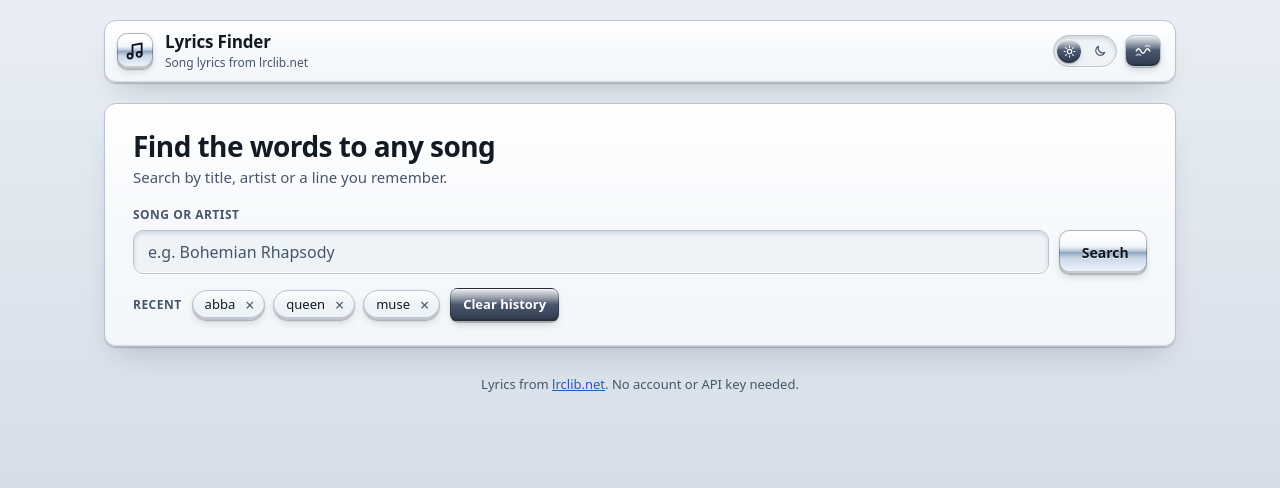
Test: recent searches › removes one entry and clears all
Step 1. Click the button named "Remove “queen” from recent searches" → (342, 305), box [329, 291, 354, 319]
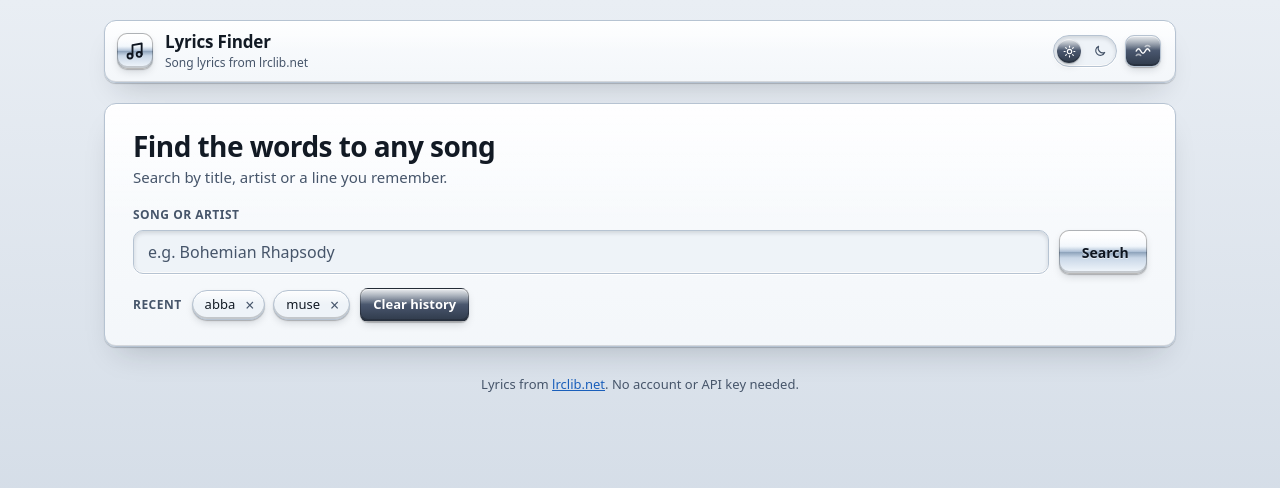
Step 2. Click the button "Clear history" → (415, 305), box [360, 288, 469, 322]
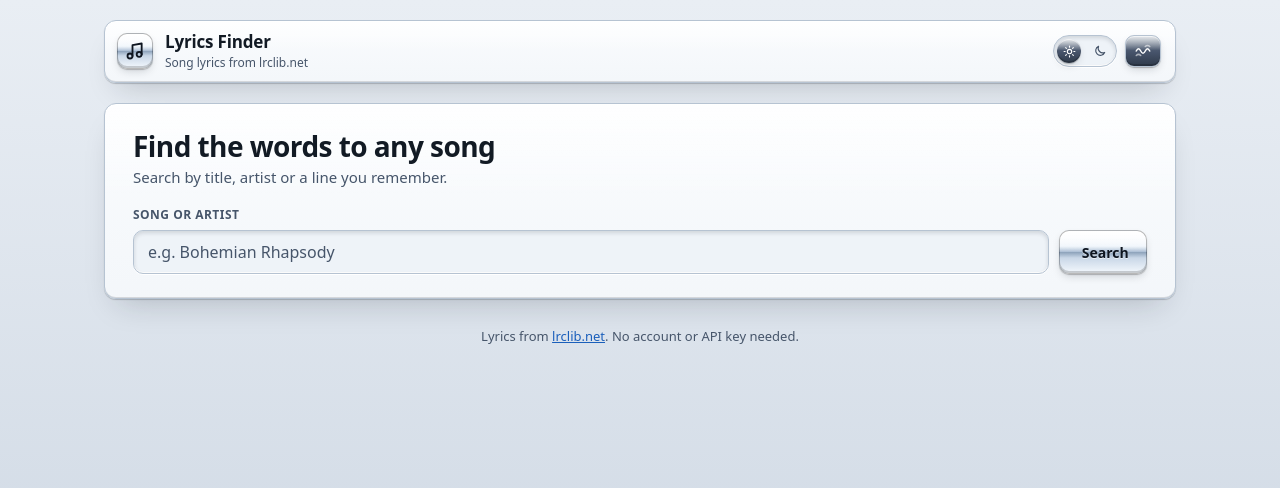
Check: the heading "Recent" is gone
